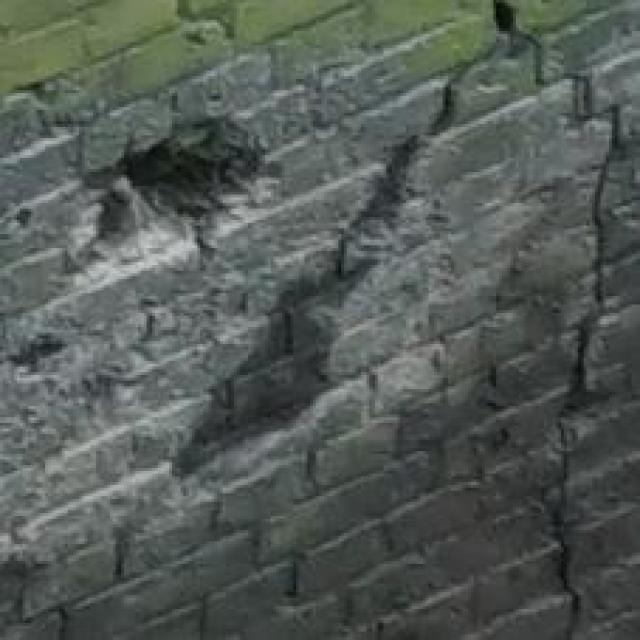Crack: (458, 0, 640, 640)
